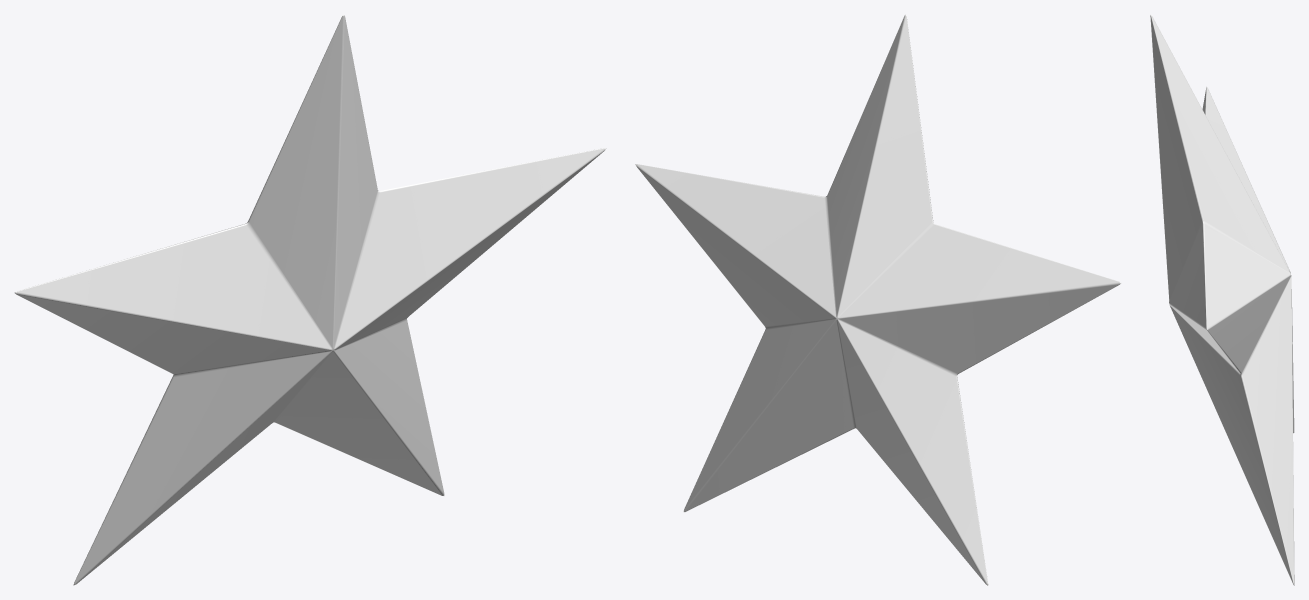
Rendered from EnemyStar.fbx.
3 renders of one model, left to right at view 1: azimuth 30°, elevation 25°; view 2: azimuth 150°, elevation 25°; view 3: azimuth 270°, elevation 25°, orthographic. The views are drawn at different scales.
Parts seen in each view (by area): view 1: node_id5; view 2: node_id5; view 3: node_id5.
Boxes of the visible parts, x1=… form: node_id5: x1=14, y1=14, x2=606, y2=585; node_id5: x1=635, y1=14, x2=1121, y2=585; node_id5: x1=1150, y1=14, x2=1294, y2=585.
Bounding box in the file's own units: 0.5083 × 0.4837 × 0.1275.
Materials: 1 (1 with a texture image).
